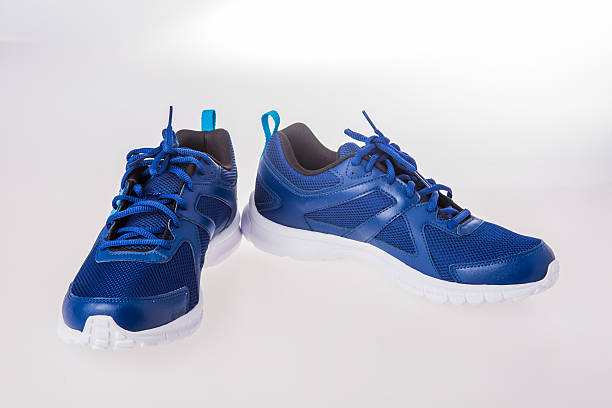Footwear: (241, 112, 564, 310), (49, 105, 244, 350)
